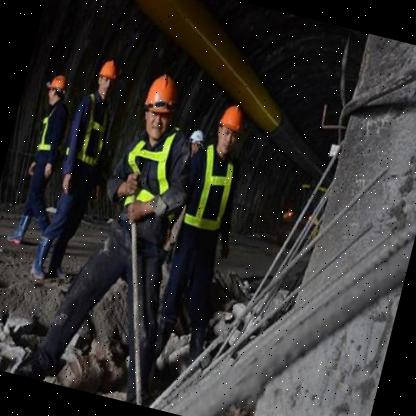bota: (27, 232, 57, 283), (5, 210, 32, 247)
capacete: (134, 70, 182, 146), (210, 102, 247, 156), (92, 58, 120, 98), (43, 72, 70, 110), (186, 127, 207, 154)
